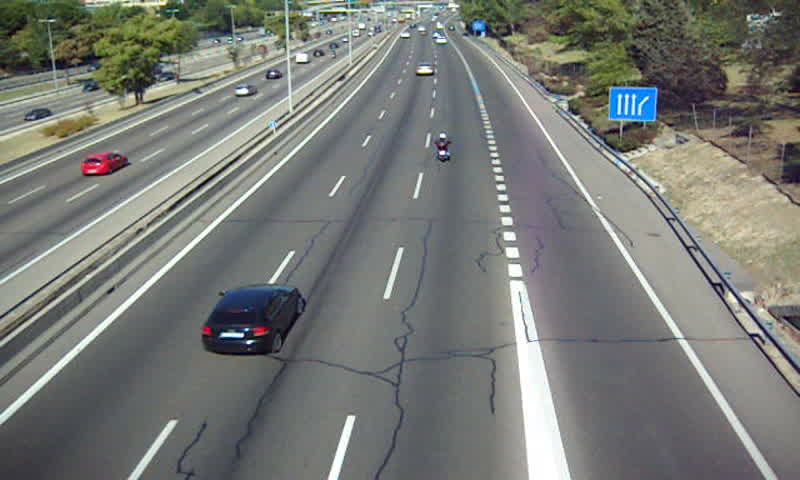car: (203, 285, 304, 355), (415, 62, 434, 77)
motorcycle: (434, 131, 453, 164)
